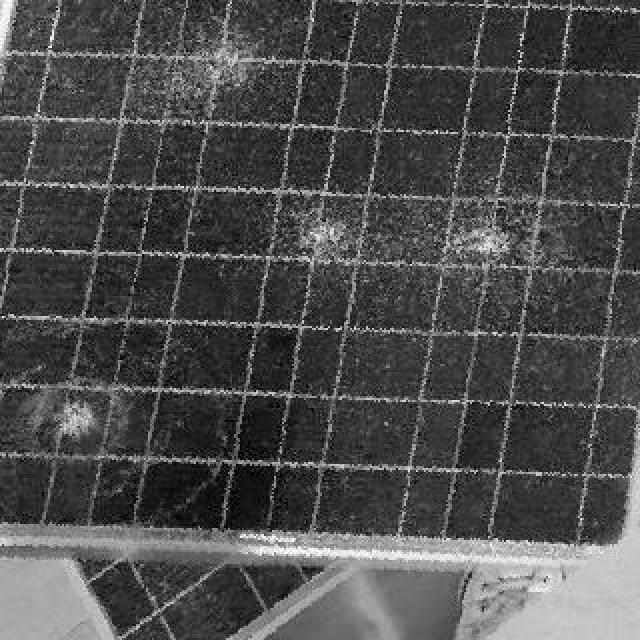Physical-damage: (434, 190, 553, 284), (30, 372, 130, 456), (276, 190, 368, 280), (172, 30, 264, 103)
